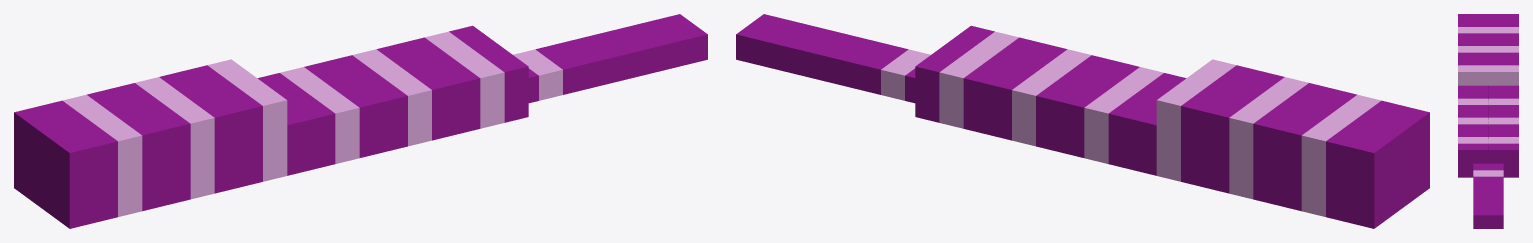
Rendered from rat-tail-joined.fbx.
The picture shows the model from 3 angles, left to right: view 1: azimuth 30°, elevation 25°; view 2: azimuth 150°, elevation 25°; view 3: azimuth 270°, elevation 25°; orthographic projection. The views are drawn at different scales.
Visible parts, largest first — view 1: tail; view 2: tail; view 3: tail.
Boxes of the visible parts, bbox=[...] form: tail: bbox=[14, 14, 707, 228]; tail: bbox=[736, 14, 1429, 228]; tail: bbox=[1458, 14, 1518, 228].
Bounding box in the file's own units: 184 × 20.4 × 27.2.
